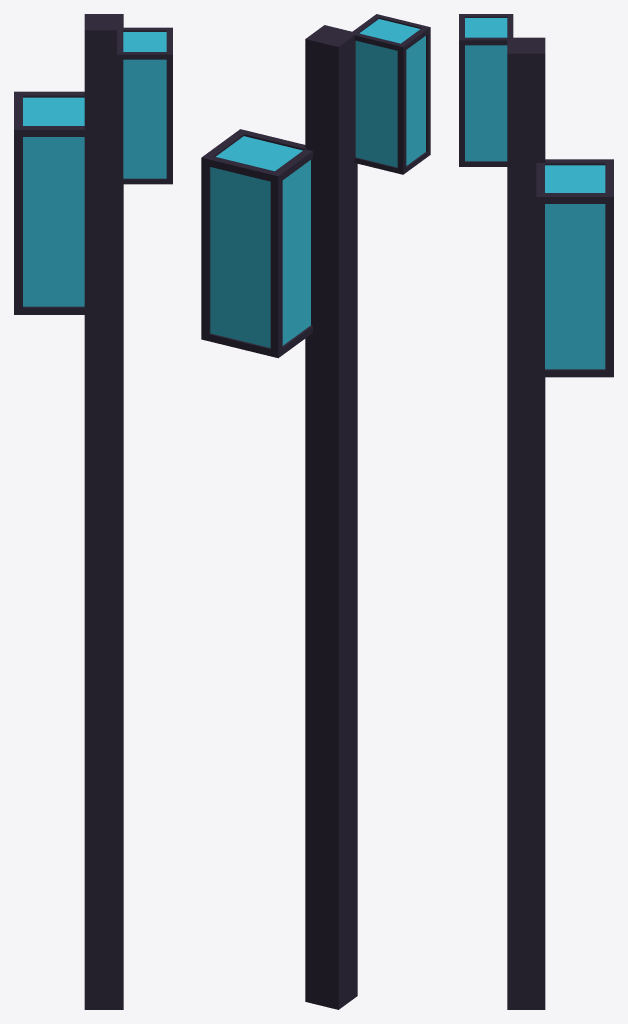
Rendered from Lampadaire2.fbx.
The picture shows the model from 3 angles, left to right: view 1: azimuth 90°, elevation 25°; view 2: azimuth 150°, elevation 25°; view 3: azimuth 270°, elevation 25°; orthographic projection. The views are drawn at different scales.
Parts seen in each view (by area): view 1: Cube, Cube.001, Cube.002; view 2: Cube, Cube.001, Cube.002; view 3: Cube, Cube.001, Cube.002.
Part boxes in pixels (x1=…): Cube: x1=84, y1=14, x2=123, y2=1009; Cube.001: x1=14, y1=91, x2=84, y2=314; Cube.002: x1=117, y1=27, x2=172, y2=184; Cube: x1=305, y1=25, x2=357, y2=1009; Cube.001: x1=201, y1=129, x2=312, y2=358; Cube.002: x1=349, y1=14, x2=430, y2=174; Cube: x1=507, y1=37, x2=545, y2=1009; Cube.001: x1=536, y1=159, x2=613, y2=377; Cube.002: x1=459, y1=14, x2=513, y2=166.
Size of the model in its own units: 274 by 1667 by 245.
